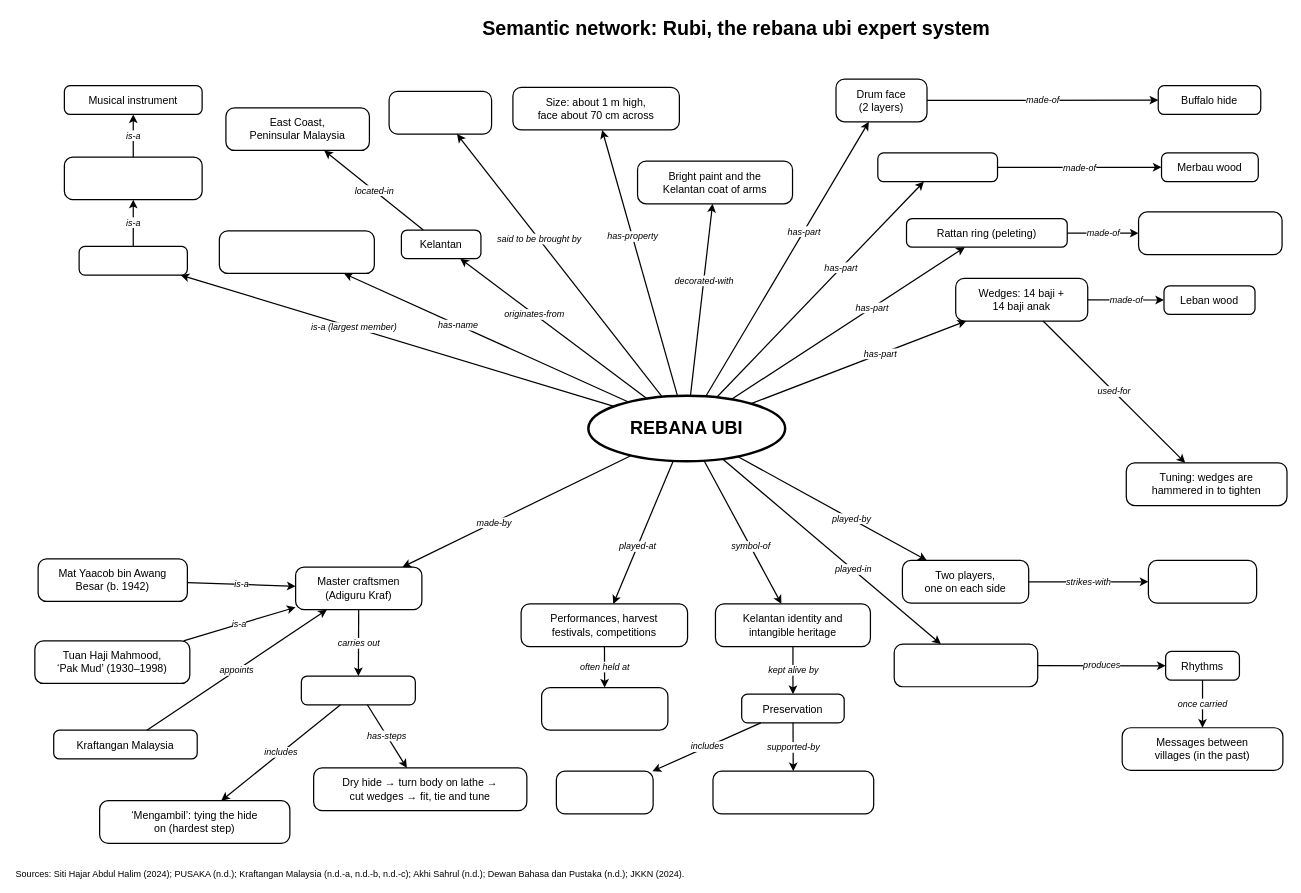
The diagram is 1301 pixels wide and 893 high, and some of its shapes have lost their labels. The shapes that lost their labels are listed below. From the top down, each one's centre as x and y in pixels, then its label:
At (x=440, y=112): "Arab traders (c. 1890s)".
At (x=132, y=178): "Membranophone (drum with a skin)".
At (x=937, y=167): "Body (temelang)".
At (x=296, y=252): "Name: rebana + ubi (‘ubi’ = tuber, root)".
At (x=1210, y=233): "Manau and sega emas rattan, nylon rope".
At (x=133, y=260): "Rebana family".
At (x=1202, y=581): "Hand or padded beater".
At (x=965, y=665): "Ensemble: 6 drums, 12 players".
At (x=358, y=690): "Making process".
At (x=604, y=708): "Gelanggang Seni, Kota Bharu".
At (x=604, y=792): "Muzium Kraf collection".
At (x=793, y=792): "Training and community groups (Amok Perdana)".
